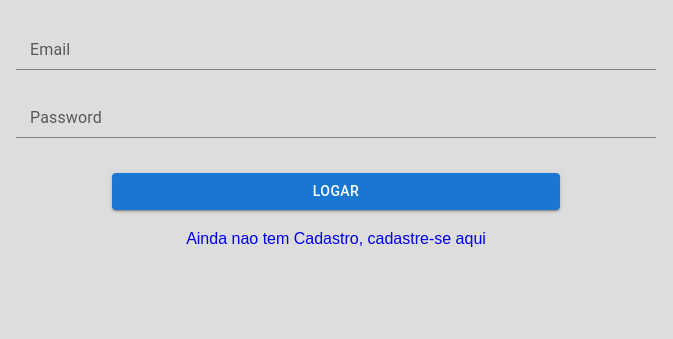
Scenario: Suit de Testes Login Page › Should show error messages WHEN email field is not valid
Type "ok" into the field named "email".
click(336, 54); type("ok")  # box [16,38,656,70]
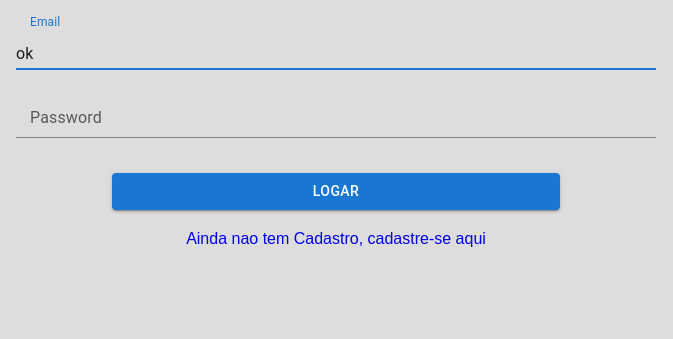
Type "123456" into the password field named "password".
click(336, 122); type("123456")  # box [16,106,656,138]
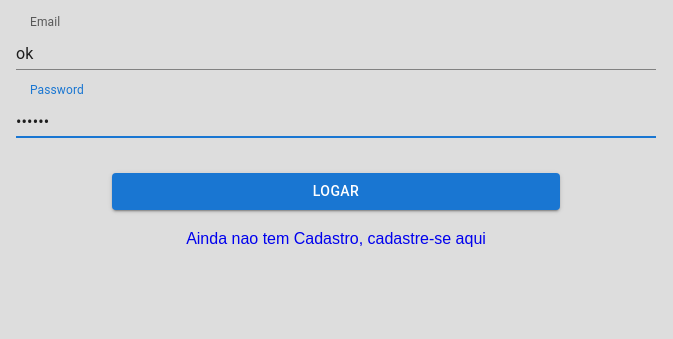
Click the button "Logar".
click(336, 191)  # box [112,173,560,210]
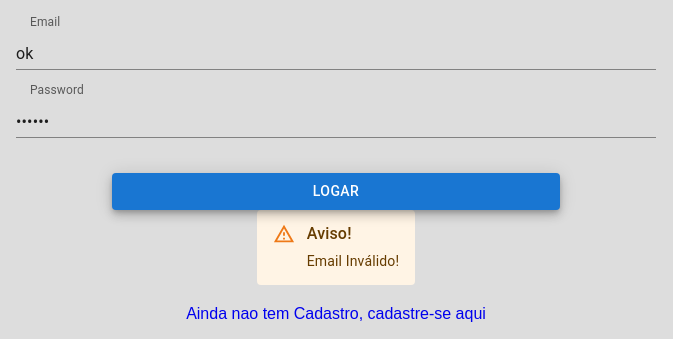
Check: the element showing "Aviso! Email Inválido!" is shown, box [307,216,399,279]
